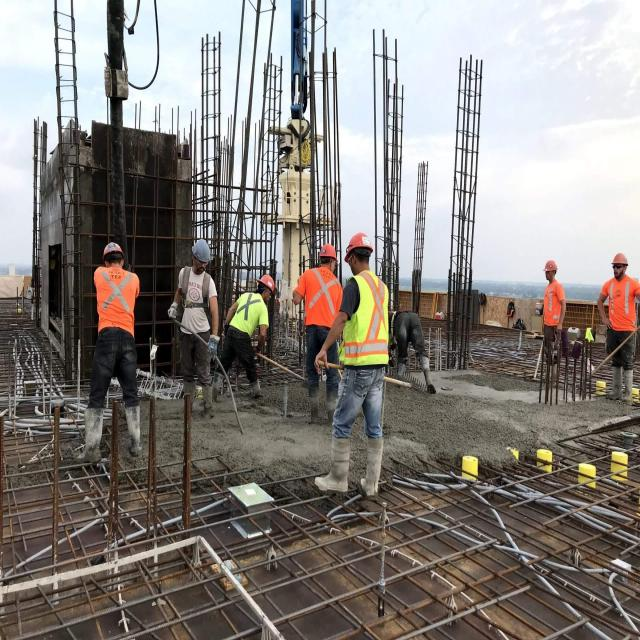Reflective-Jacket: (337, 270, 392, 368), (91, 266, 141, 341), (604, 276, 639, 332), (543, 278, 565, 328)
Safety-Helmet: (342, 227, 376, 263), (190, 235, 214, 264), (100, 239, 128, 261), (316, 240, 339, 263), (256, 272, 278, 294), (611, 250, 630, 267), (542, 256, 558, 274)
